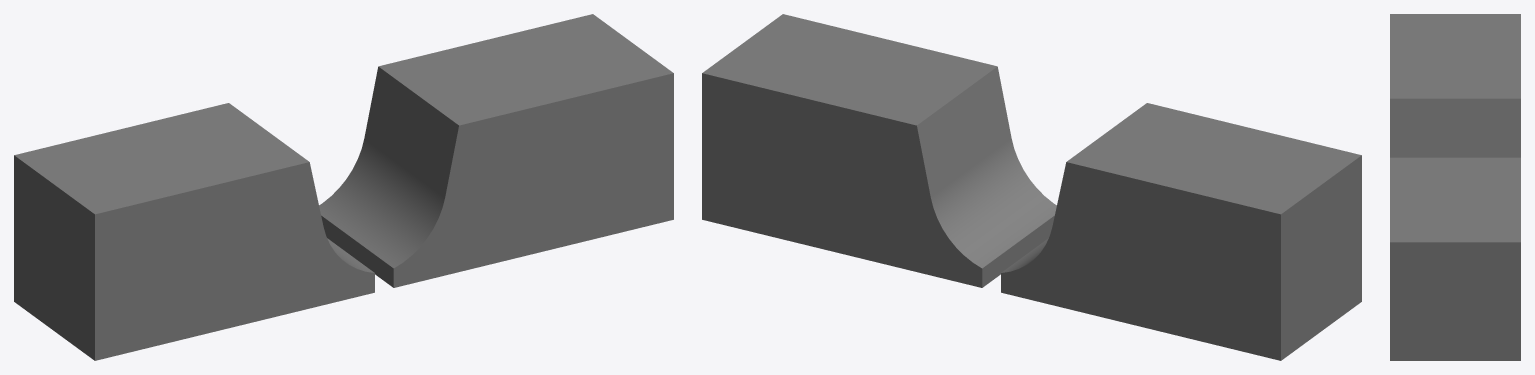
Rendered from С23_Кромки.glb.
The picture shows the model from 3 angles, left to right: view 1: azimuth 30°, elevation 25°; view 2: azimuth 150°, elevation 25°; view 3: azimuth 270°, elevation 25°; orthographic projection. The views are drawn at different scales.
Parts seen in each view (by area): view 1: node_id3; view 2: node_id3; view 3: node_id3.
Part boxes in pixels (x1,y1,x2,y2): node_id3: (14,14,673,360); node_id3: (702,14,1361,360); node_id3: (1390,14,1520,360).
Bounding box in the file's own units: 0.512 × 0.1239 × 0.1239.
Materials: 1 (1 with a texture image).
